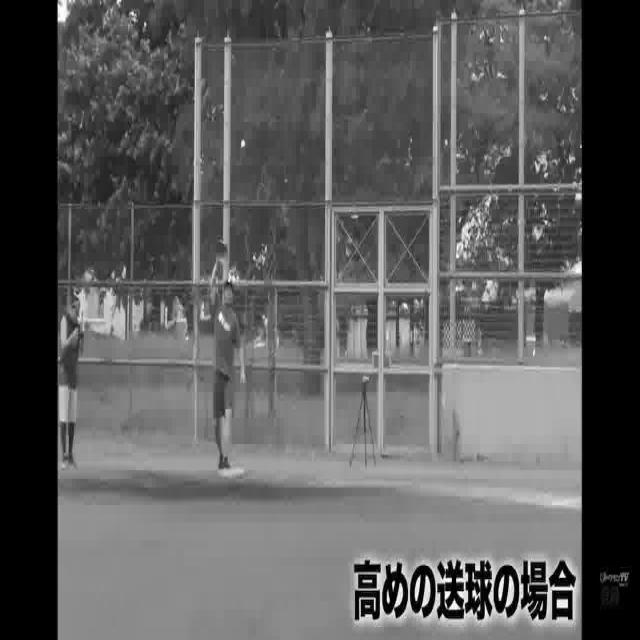base: (220, 470, 245, 482)
baseball: (241, 140, 246, 149)
baseball_glove: (214, 238, 228, 268)
shoe: (225, 457, 231, 470), (219, 459, 224, 469)
